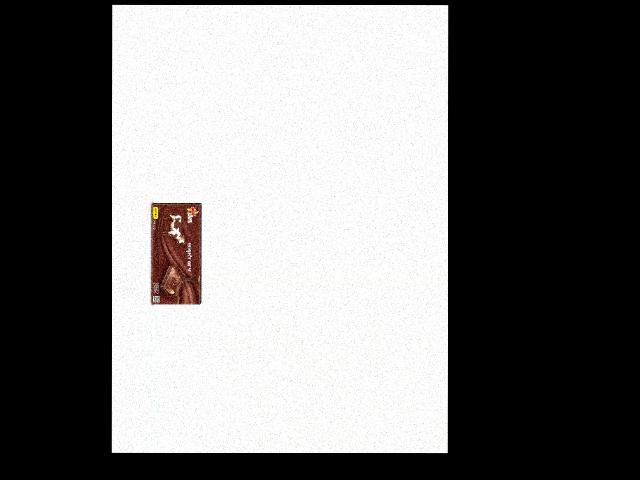chocolate: (150, 200, 202, 303)
